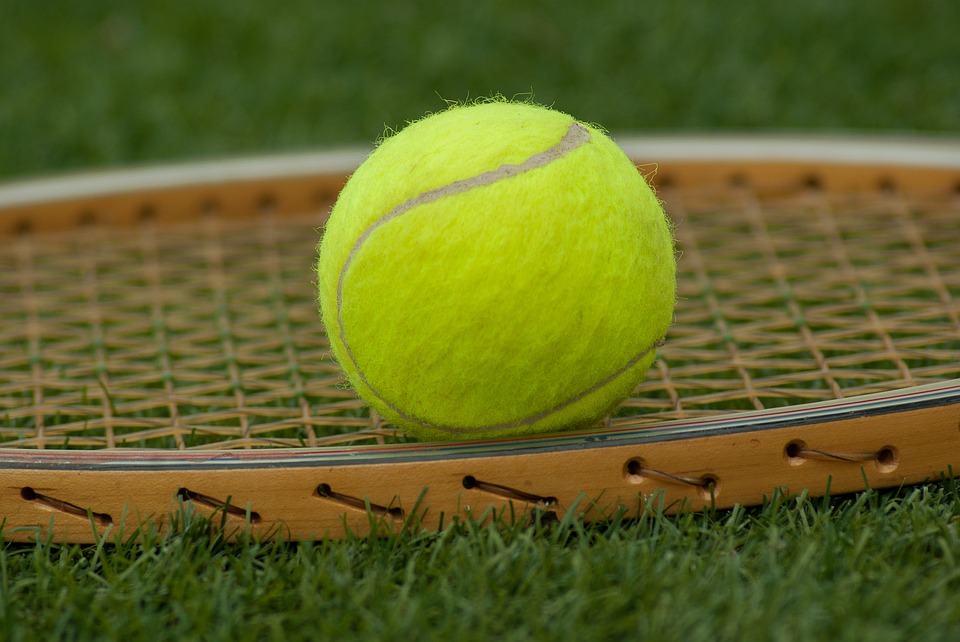tennis_ball: (310, 98, 678, 444)
